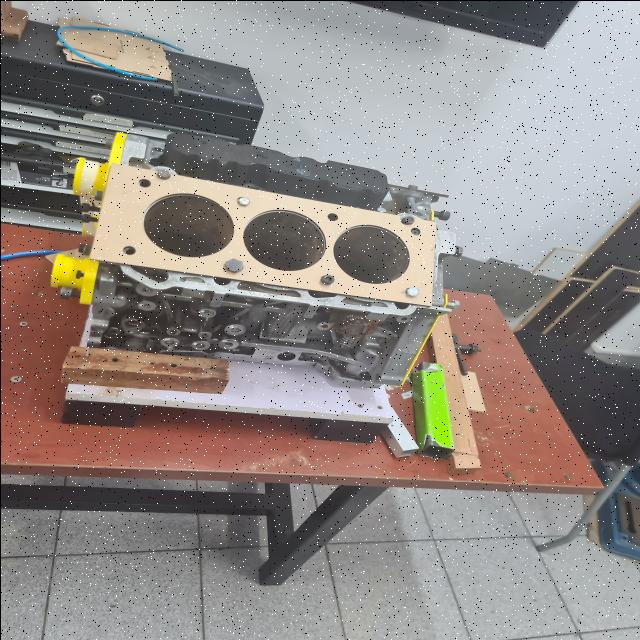vista1: (90, 163, 435, 306)
